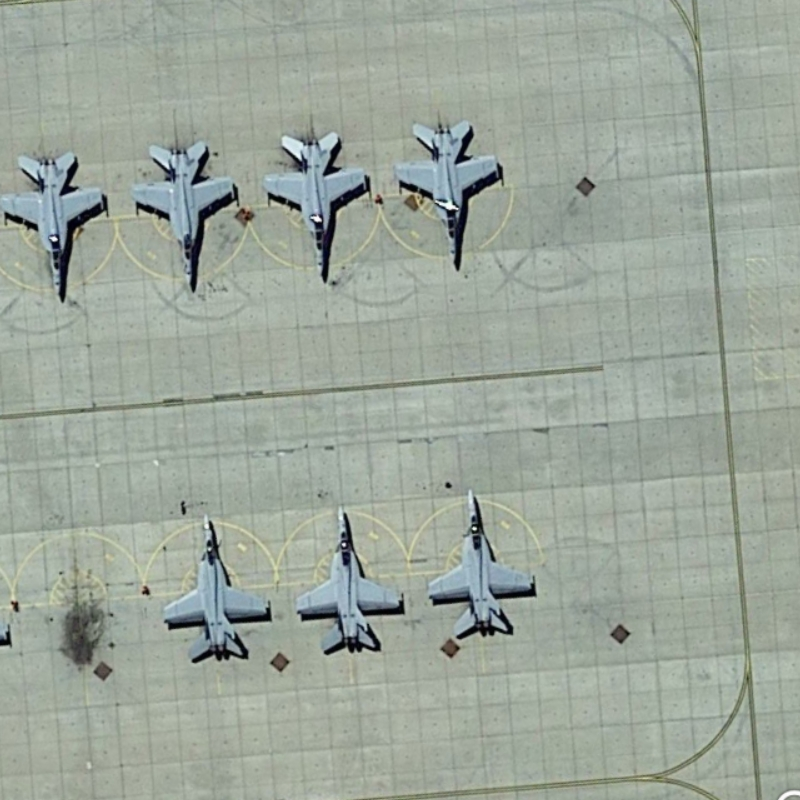A16: (421, 478, 543, 646), (289, 499, 412, 664), (154, 505, 276, 671), (391, 111, 507, 275), (261, 120, 372, 289), (127, 137, 240, 302), (1, 146, 114, 307)
